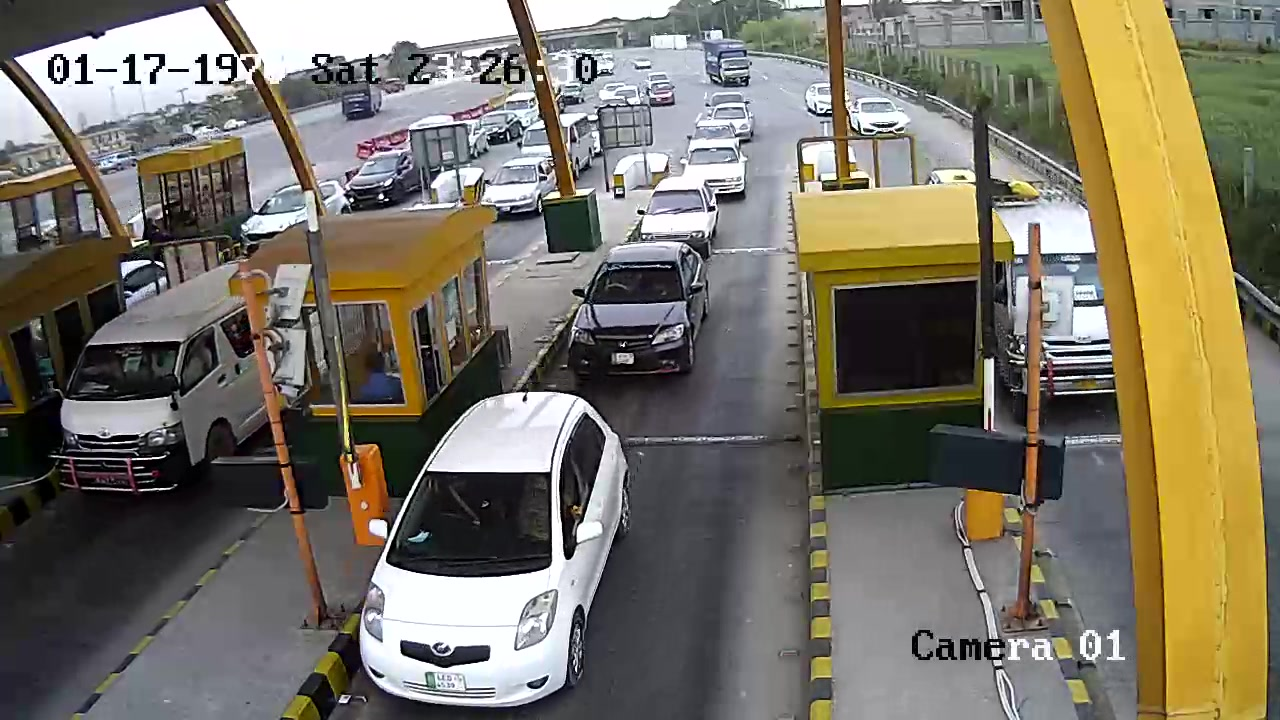F1: (354, 384, 632, 715), (549, 240, 714, 385)
